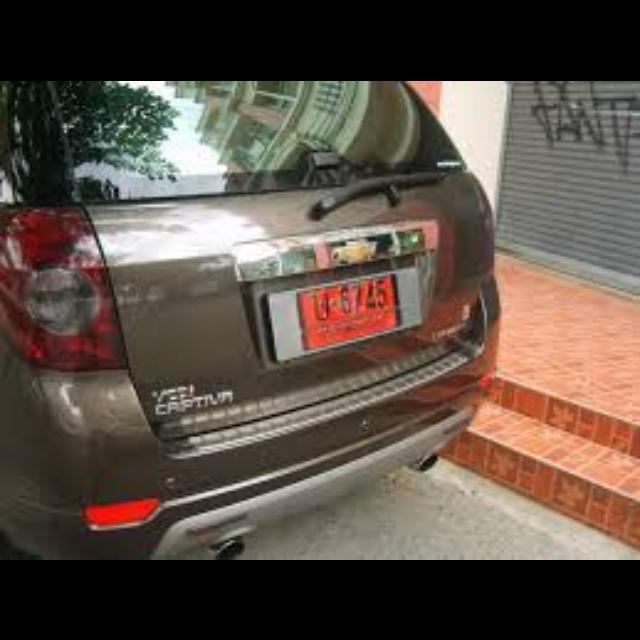licenseplate: (262, 264, 426, 362)
